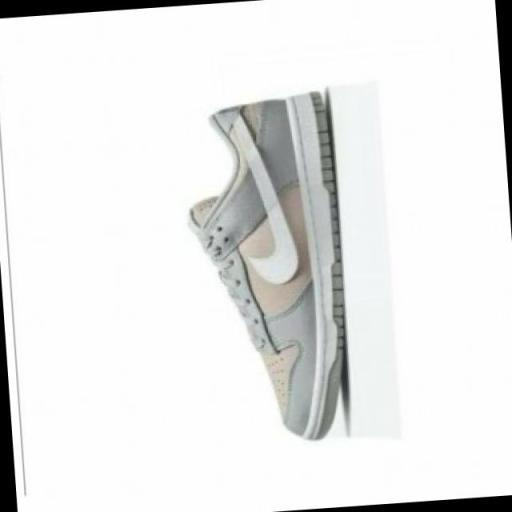Nike: (225, 110, 302, 290)
